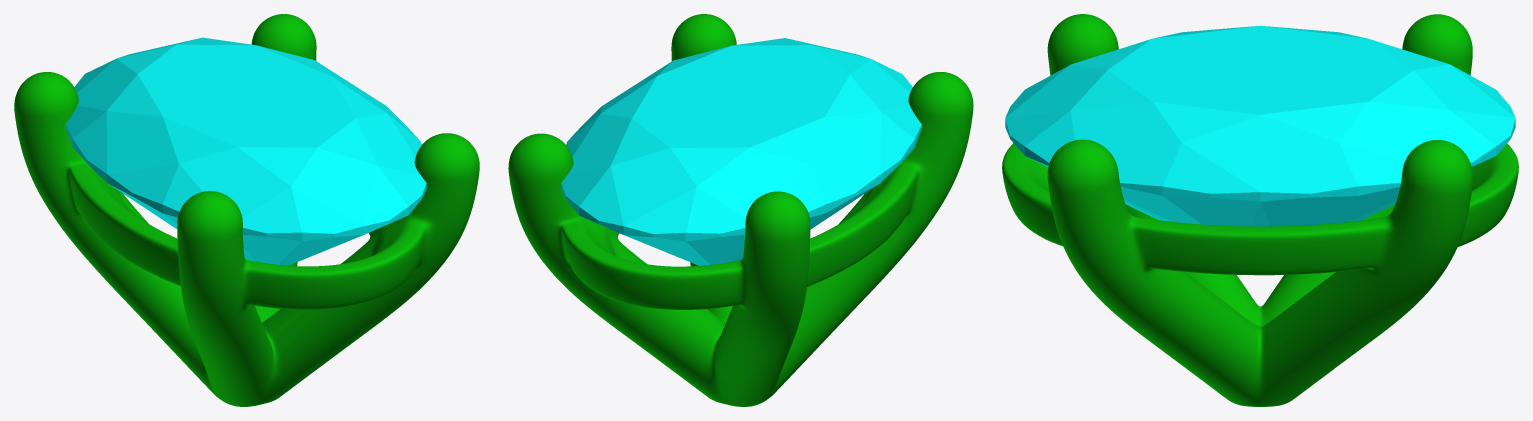
3 views of the same model, side by side, from view 1: azimuth 30°, elevation 25°; view 2: azimuth 150°, elevation 25°; view 3: azimuth 270°, elevation 25° (orthographic). The views are drawn at different scales.
Parts seen in each view (by area): view 1: Metal01, Diamond_Oval; view 2: Metal01, Diamond_Oval; view 3: Metal01, Diamond_Oval.
Part boxes in pixels (box(x1,y1,x2,y2)): Metal01: box(14, 14, 479, 406); Diamond_Oval: box(65, 37, 426, 265); Metal01: box(508, 14, 973, 406); Diamond_Oval: box(561, 38, 921, 265); Metal01: box(1002, 14, 1518, 406); Diamond_Oval: box(1005, 25, 1515, 226).
Size of the model in its own units: 5.78 by 5.61 by 8.1.
